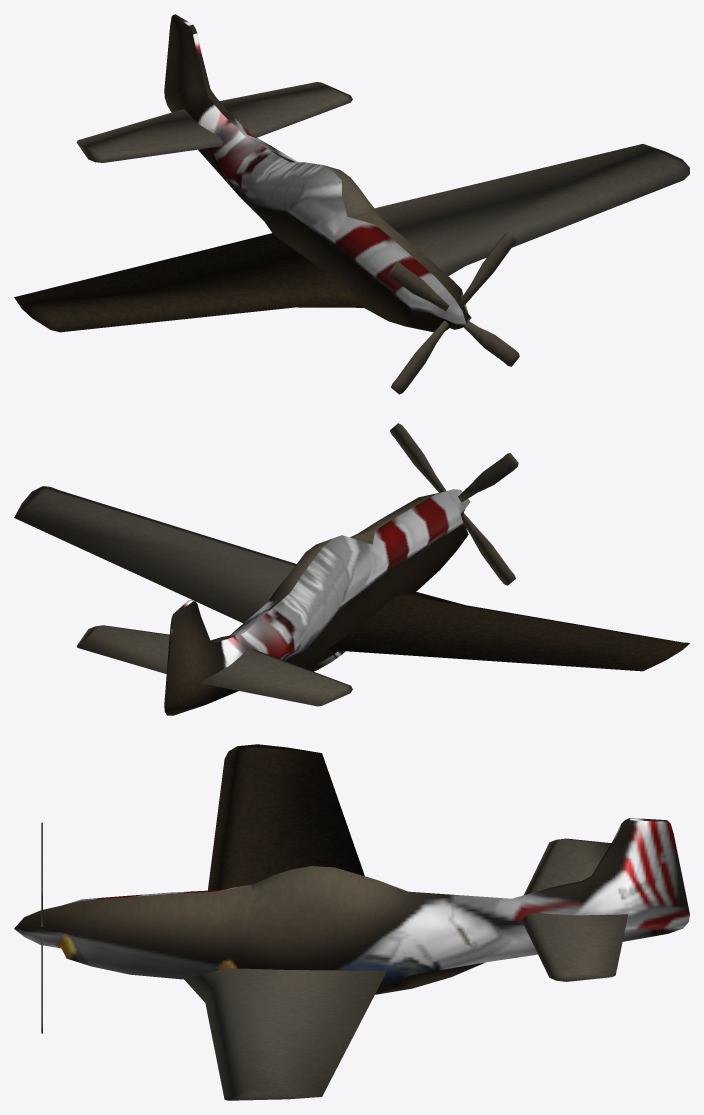
Rendered from aeroplane.dae.
3 renders of one model, top to bottom at view 1: azimuth 30°, elevation 25°; view 2: azimuth 150°, elevation 25°; view 3: azimuth 270°, elevation 25°, orthographic. The views are drawn at different scales.
Parts seen in each view (by area): view 1: Plane; view 2: Plane; view 3: Plane.
Boxes of the visible parts, x1,y1,x2,y2 form: Plane: [14, 14, 689, 394]; Plane: [14, 423, 689, 715]; Plane: [14, 744, 689, 1100].
Size of the model in its own units: 22.89 by 5.5 by 18.4.
